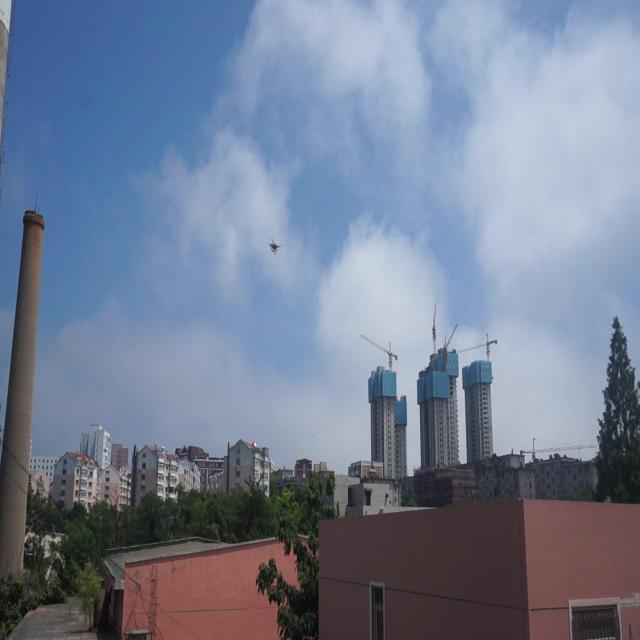drone: (268, 236, 280, 260)
